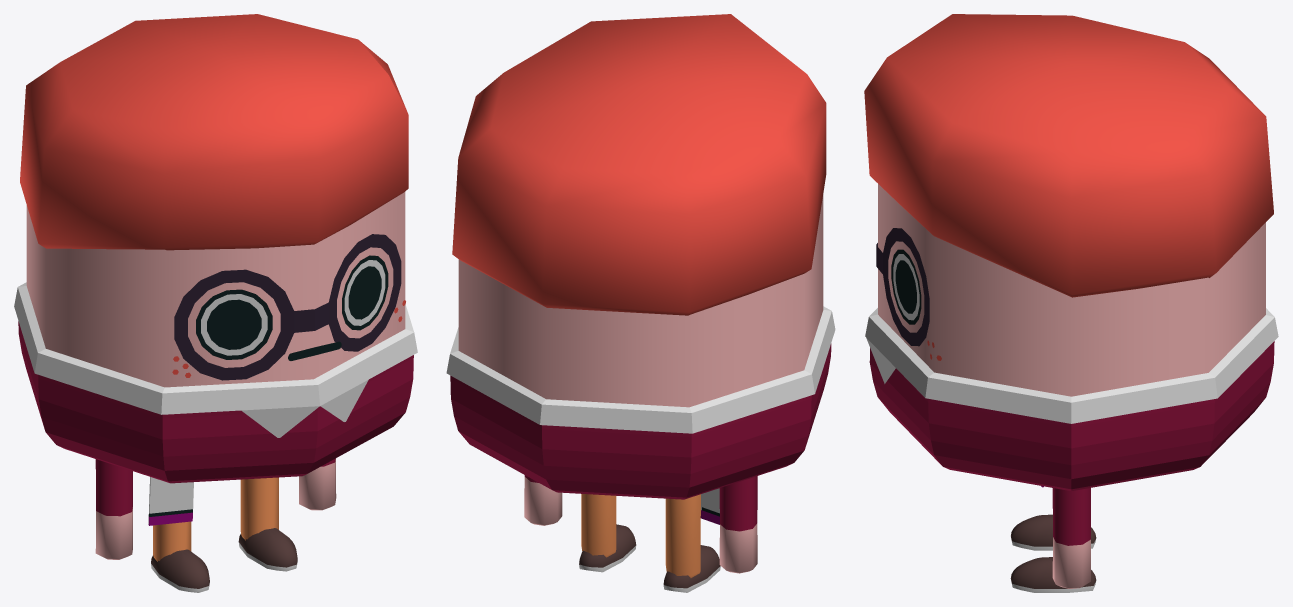
File: Designer.fbx
3 renders of one model, left to right at view 1: azimuth 30°, elevation 25°; view 2: azimuth 150°, elevation 25°; view 3: azimuth 270°, elevation 25°, orthographic. The views are drawn at different scales.
Visible parts, largest first — view 1: Designer; view 2: Designer; view 3: Designer.
Boxes of the visible parts, box(x1,y1,x2,y2) form: Designer: box(14, 14, 417, 592); Designer: box(446, 14, 835, 592); Designer: box(864, 14, 1278, 592).
Size of the model in its own units: 188 by 255 by 188.
